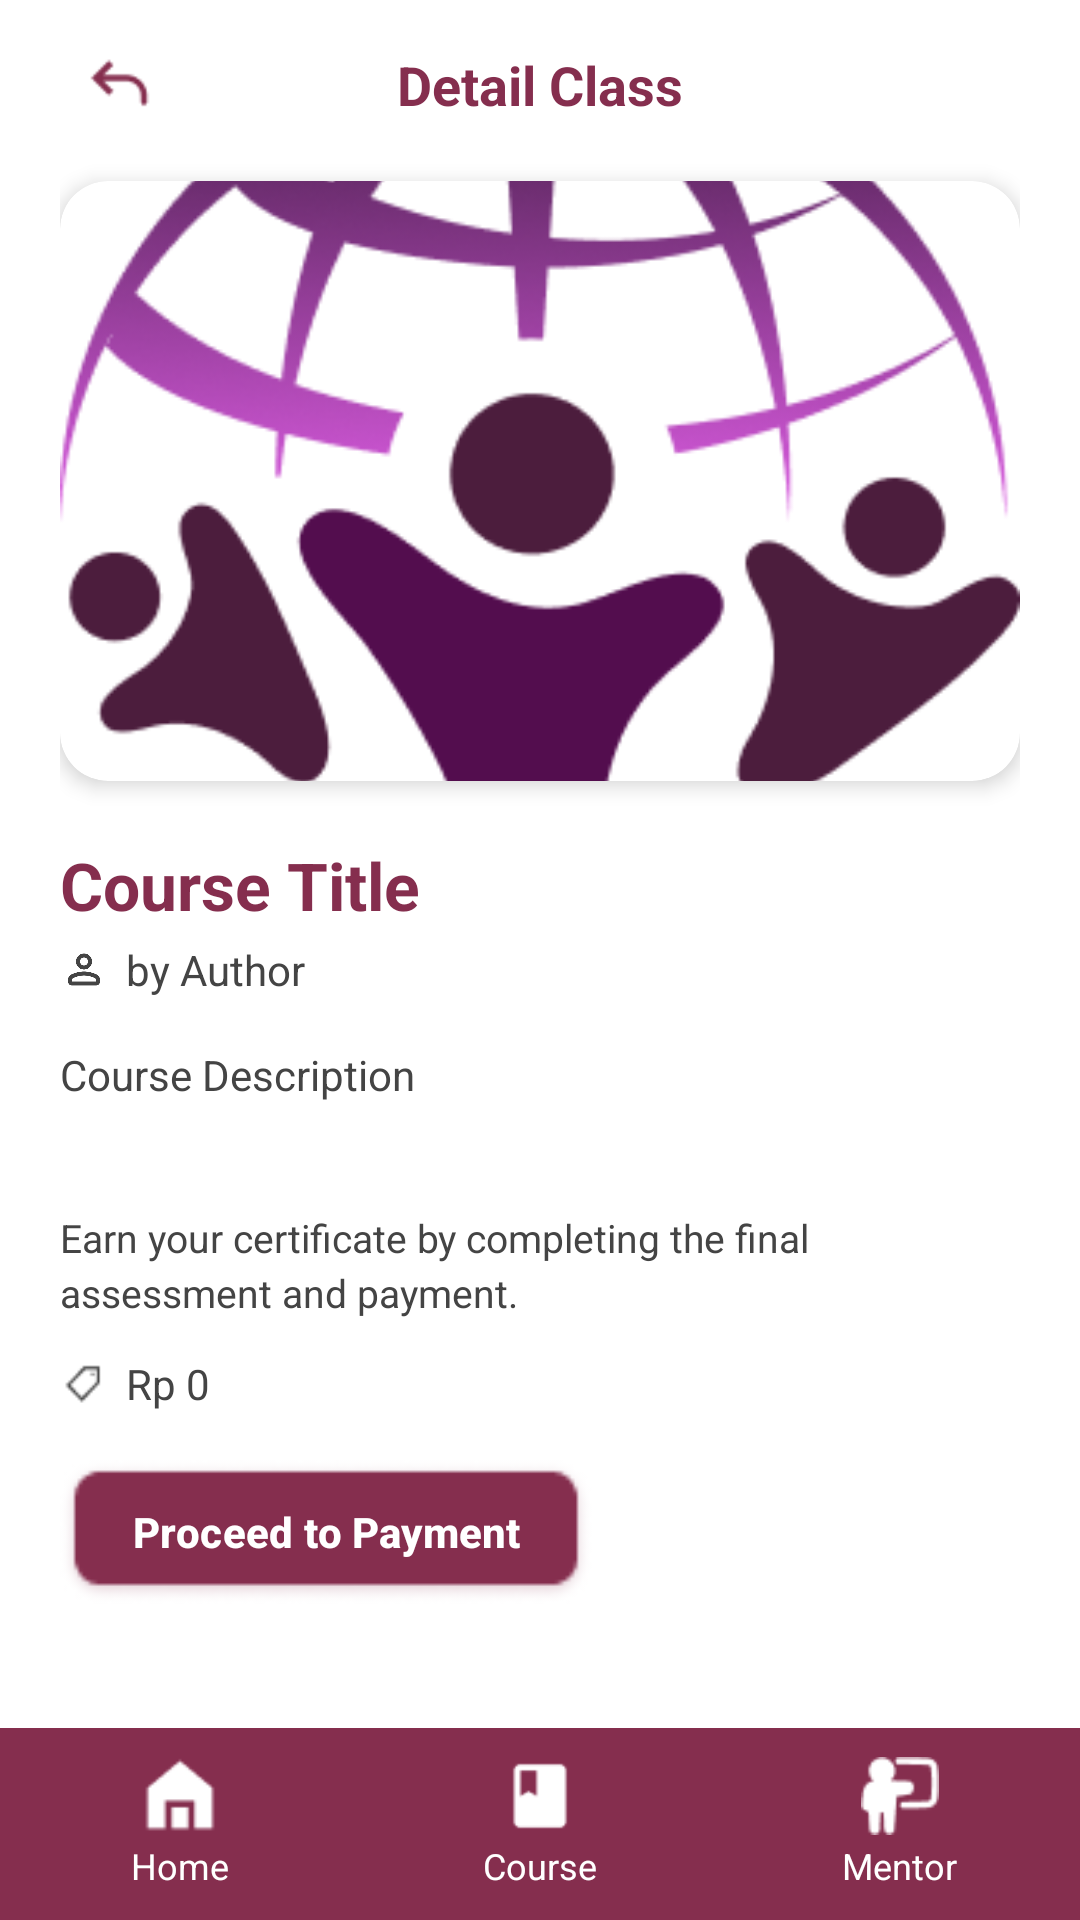

Where icons sit on this 1080w x 1920h app screen, as (x1, y1, x2, y2):
back: (91, 60, 149, 106)
pricetag: (65, 1365, 100, 1403)
